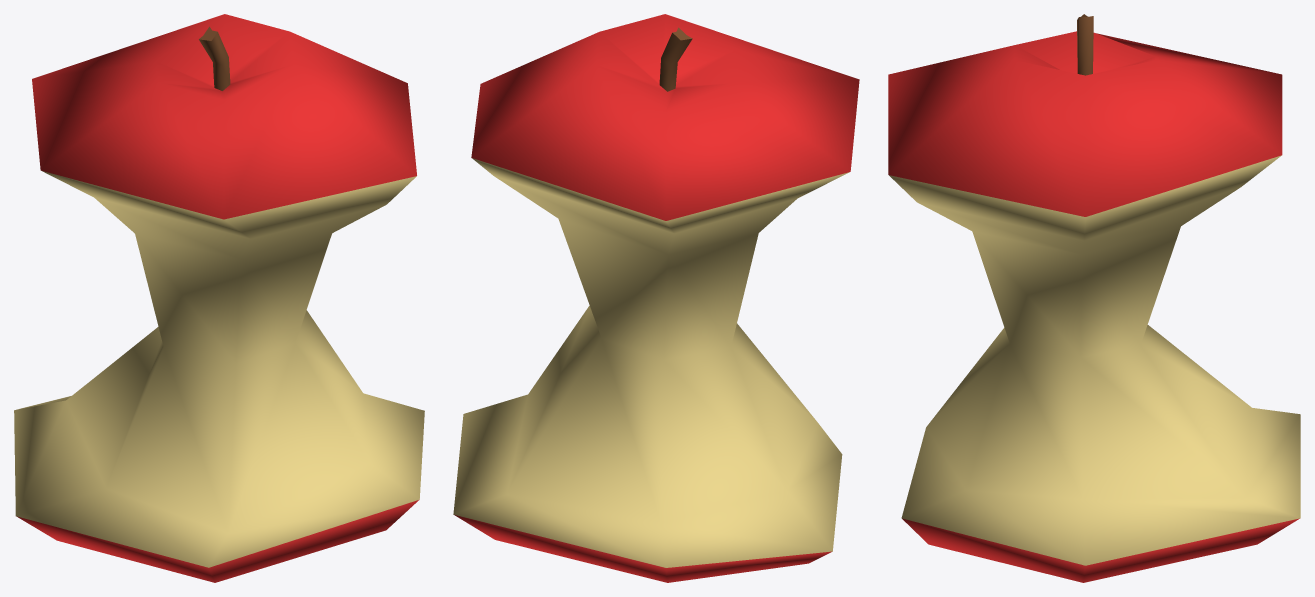
File: apple.fbx
3 views of the same model, side by side, from view 1: azimuth 30°, elevation 25°; view 2: azimuth 150°, elevation 25°; view 3: azimuth 270°, elevation 25° (orthographic). The views are drawn at different scales.
Parts seen in each view (by area): view 1: Apple_Rotten_GEO; view 2: Apple_Rotten_GEO; view 3: Apple_Rotten_GEO.
Boxes of the visible parts, x1,y1,x2,y2 form: Apple_Rotten_GEO: (14,14,424,582); Apple_Rotten_GEO: (453,14,859,582); Apple_Rotten_GEO: (888,14,1300,582).
Bounding box in the file's own units: 9.05 × 11.27 × 8.12.
